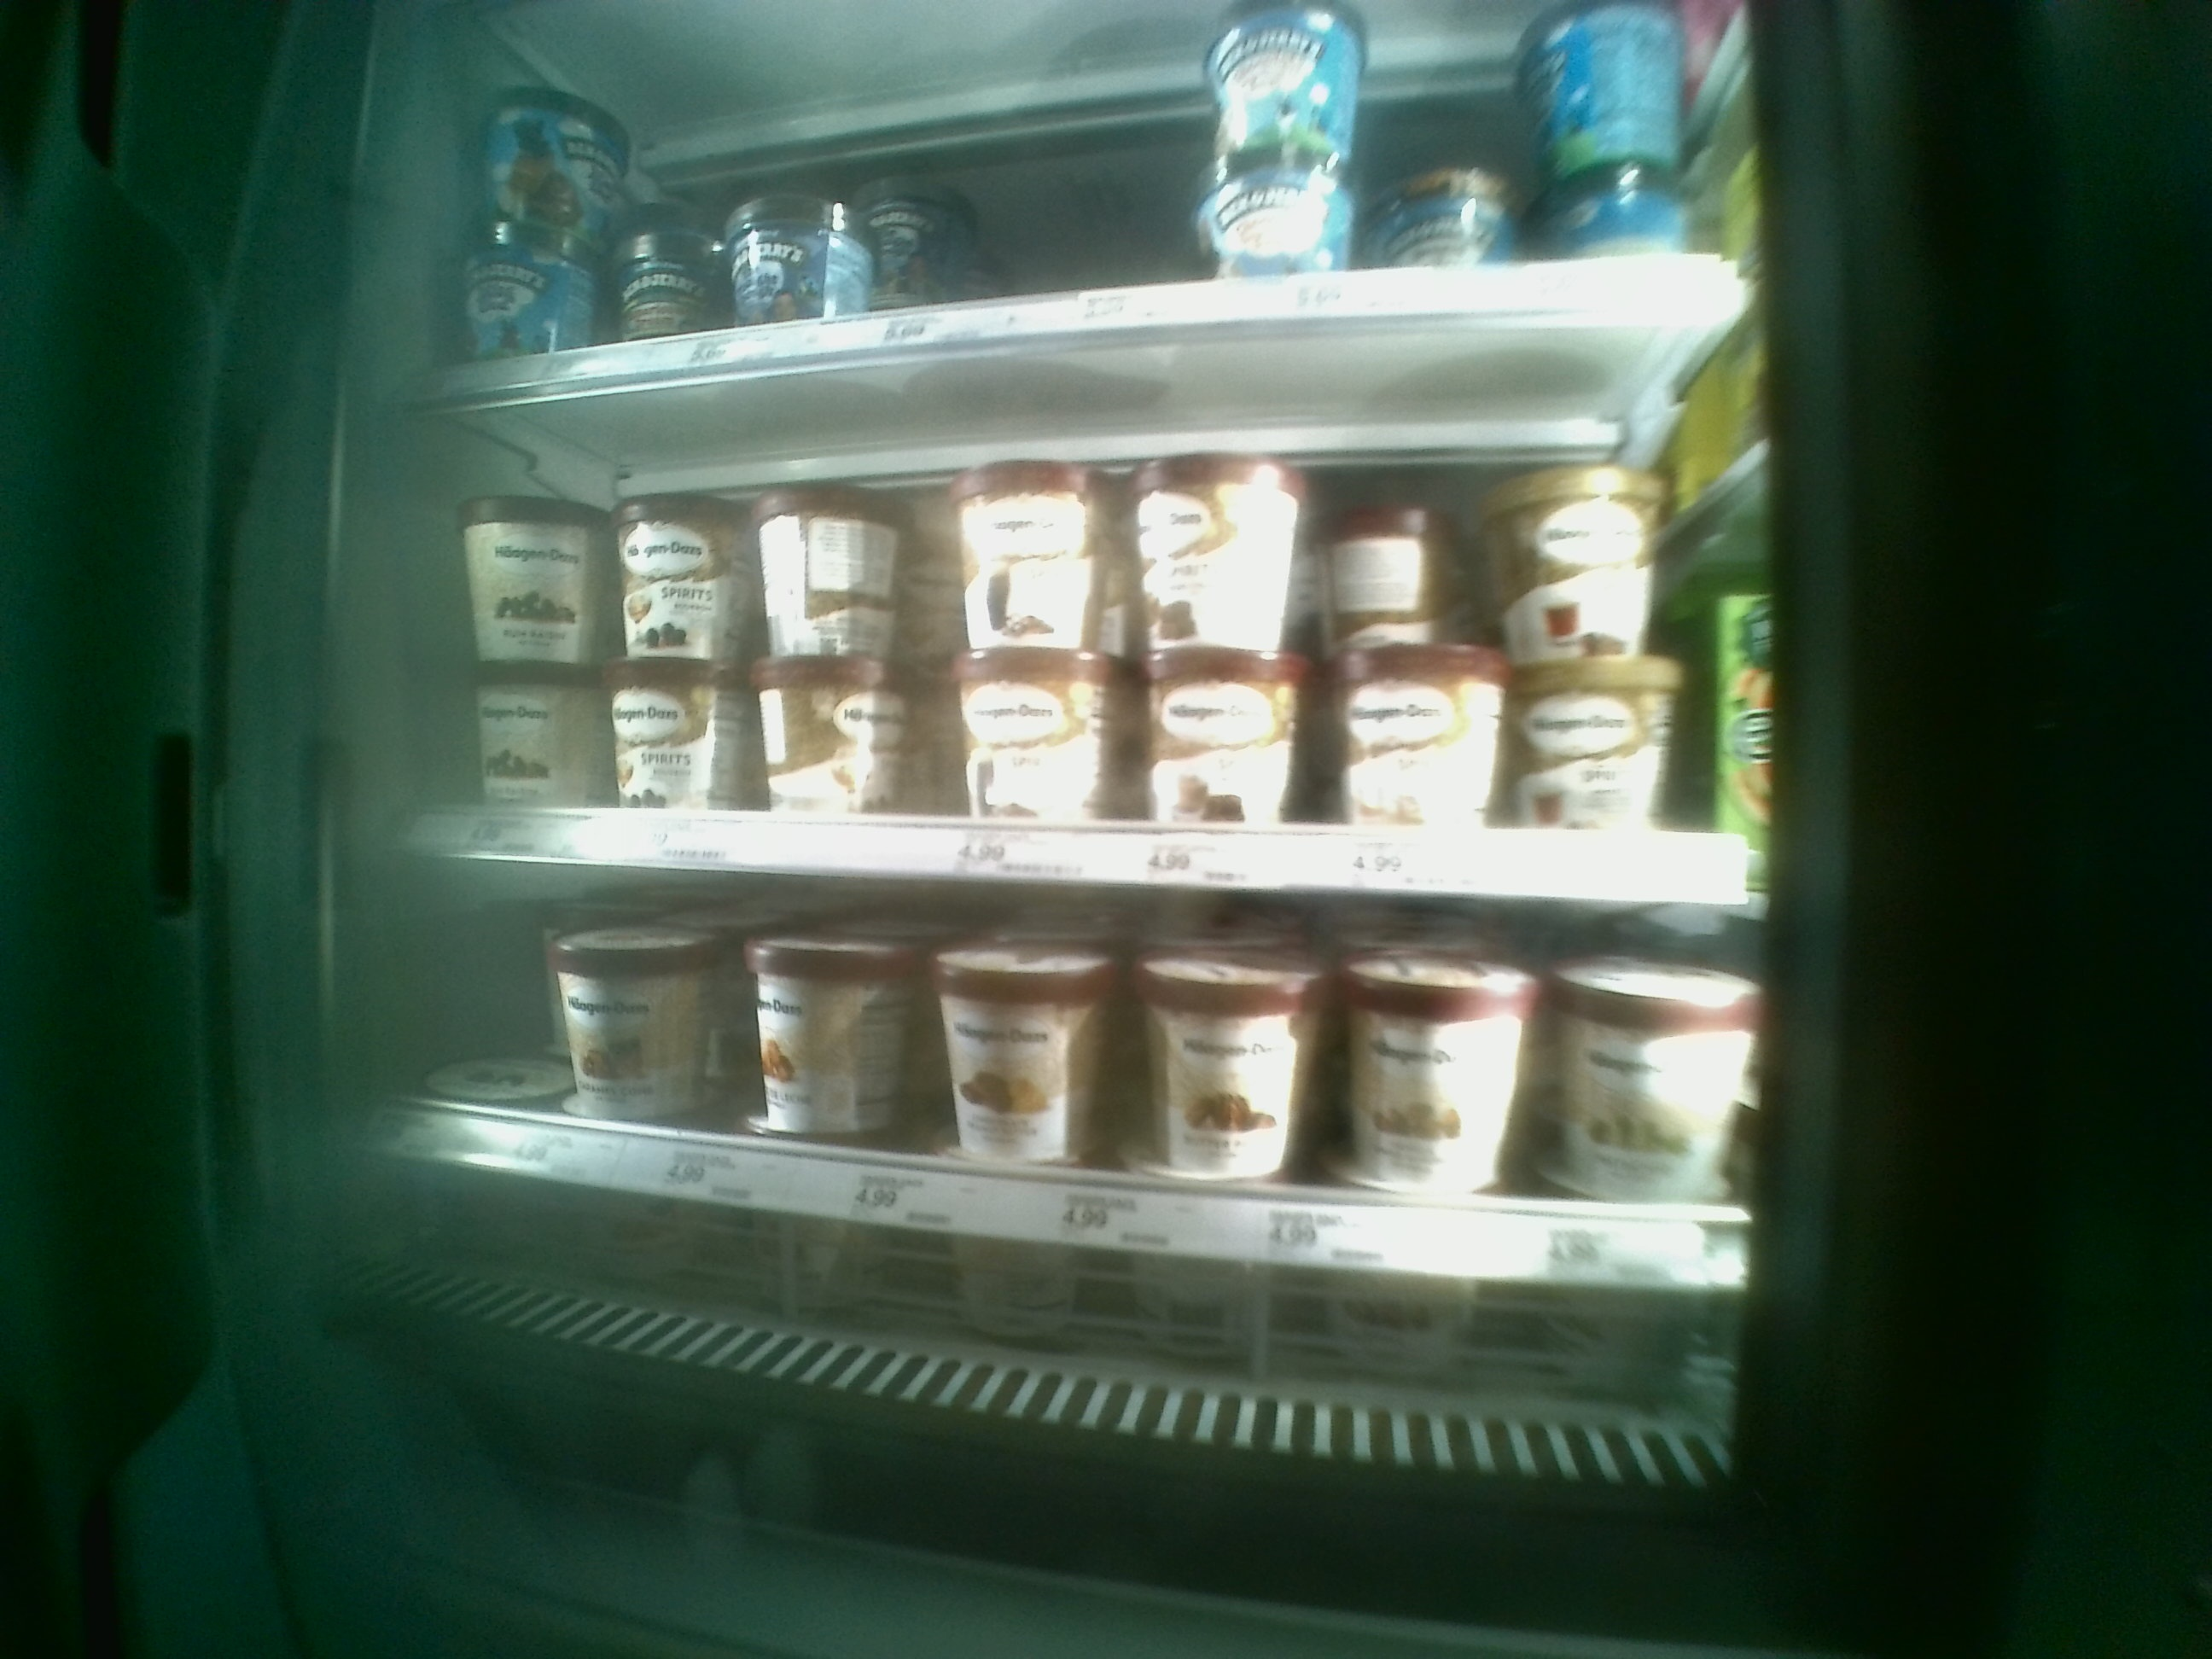shelf: (416, 329, 1782, 908), (416, 871, 1780, 1413)
